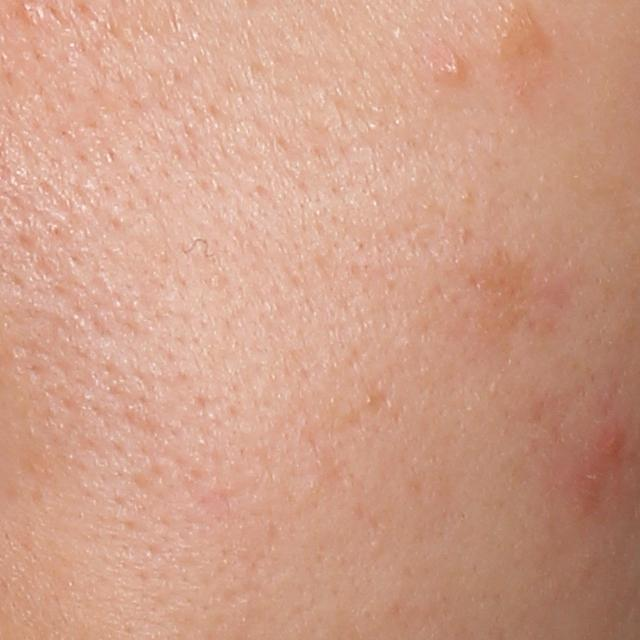comedo: (440, 57, 468, 82)
papule: (585, 427, 624, 465)
